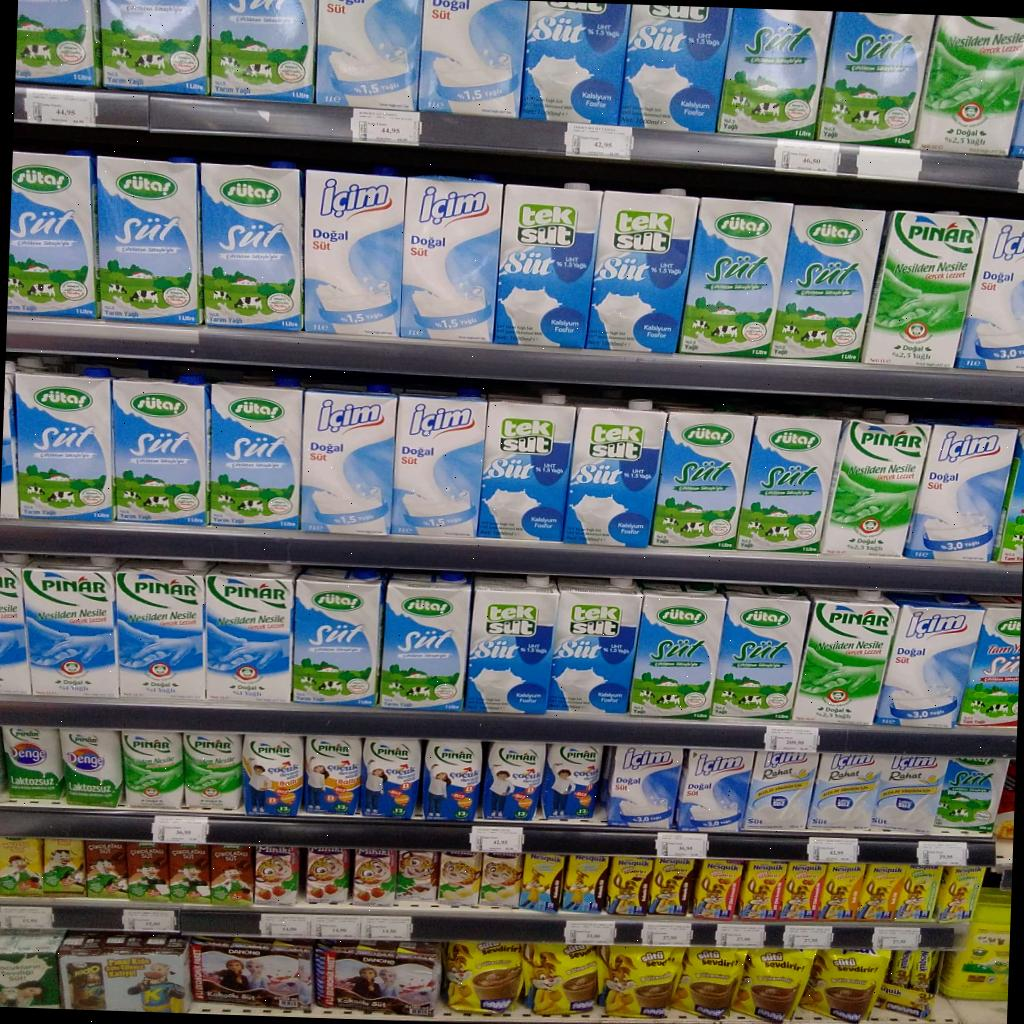price_tag: (25, 88, 96, 127), (351, 108, 421, 145), (565, 124, 633, 159), (857, 146, 922, 181), (775, 140, 839, 174), (152, 816, 209, 844), (765, 725, 819, 753), (470, 826, 524, 854), (564, 918, 616, 946), (656, 833, 708, 859), (642, 921, 692, 947), (918, 840, 968, 866), (809, 837, 859, 863), (122, 910, 178, 933), (362, 916, 412, 941), (716, 923, 766, 948), (261, 914, 312, 938), (313, 915, 364, 939), (0, 906, 53, 929), (783, 925, 833, 949), (872, 927, 920, 950), (1018, 161, 1023, 193)
product: (860, 210, 984, 367), (677, 198, 793, 357), (587, 189, 699, 353), (493, 183, 602, 347), (96, 156, 202, 324), (771, 206, 884, 361), (303, 167, 405, 336), (200, 163, 302, 330), (402, 176, 501, 343), (817, 11, 933, 147), (820, 414, 930, 556), (904, 424, 1017, 561), (7, 150, 99, 318), (915, 15, 1024, 156), (563, 400, 666, 547), (717, 8, 832, 139), (650, 406, 754, 548), (874, 593, 983, 728), (476, 394, 576, 541), (113, 374, 209, 524), (736, 415, 840, 553), (619, 4, 732, 131), (17, 369, 112, 519), (300, 385, 396, 533), (793, 590, 898, 724), (392, 391, 487, 537), (22, 558, 120, 696), (628, 582, 726, 720), (210, 383, 301, 528), (520, 0, 627, 123), (464, 575, 558, 713), (378, 572, 471, 711), (548, 579, 642, 715), (713, 585, 808, 719), (418, 0, 526, 117), (116, 561, 208, 698), (206, 565, 298, 701), (294, 569, 385, 706), (316, 0, 421, 110), (57, 931, 190, 1012), (209, 0, 315, 101), (955, 218, 1024, 371), (99, 0, 209, 94), (190, 937, 313, 1009), (956, 598, 1021, 727), (334, 943, 440, 1016), (15, 0, 100, 87), (675, 748, 755, 832), (800, 948, 890, 1022), (608, 745, 682, 828), (743, 751, 820, 830), (600, 945, 683, 1017), (735, 948, 814, 1023), (871, 754, 946, 831), (934, 757, 1007, 834), (444, 941, 521, 1014), (808, 753, 879, 831), (524, 943, 598, 1015), (674, 947, 746, 1019), (481, 741, 545, 821), (241, 734, 303, 815), (0, 929, 63, 1008), (360, 737, 420, 818), (422, 739, 481, 820), (121, 731, 183, 808), (60, 729, 122, 806), (541, 743, 603, 819), (304, 736, 361, 815), (184, 732, 242, 809), (3, 726, 63, 799), (0, 564, 31, 693), (926, 866, 983, 922), (692, 859, 743, 920), (736, 860, 786, 922), (856, 863, 907, 921), (647, 859, 698, 915), (779, 861, 826, 920), (561, 854, 608, 912), (605, 856, 652, 914), (816, 863, 863, 921), (518, 854, 564, 912), (254, 846, 298, 905), (82, 841, 127, 898), (351, 848, 396, 905), (126, 843, 169, 902), (210, 846, 253, 905), (896, 866, 942, 920), (0, 837, 41, 897), (305, 848, 349, 903), (438, 851, 482, 905), (42, 838, 83, 895), (479, 853, 522, 907), (169, 844, 209, 902), (395, 850, 439, 900), (910, 950, 938, 989), (886, 950, 915, 987)
